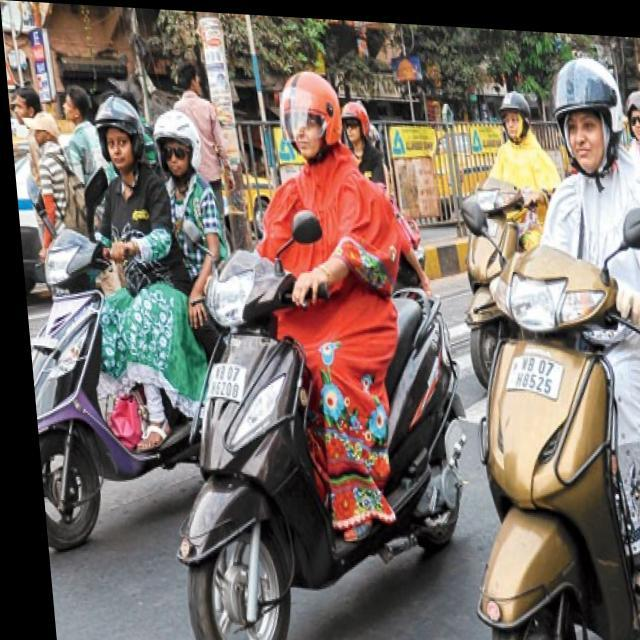Helmet: (542, 49, 626, 179), (276, 68, 344, 163), (150, 102, 209, 188), (92, 92, 146, 174)
